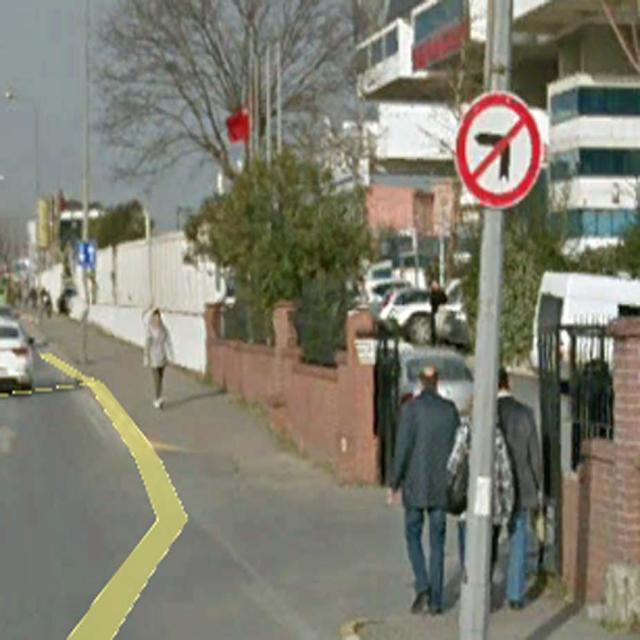soladonulmez: (455, 90, 542, 209)
